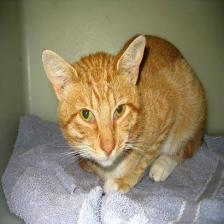cat: (41, 35, 149, 173)
